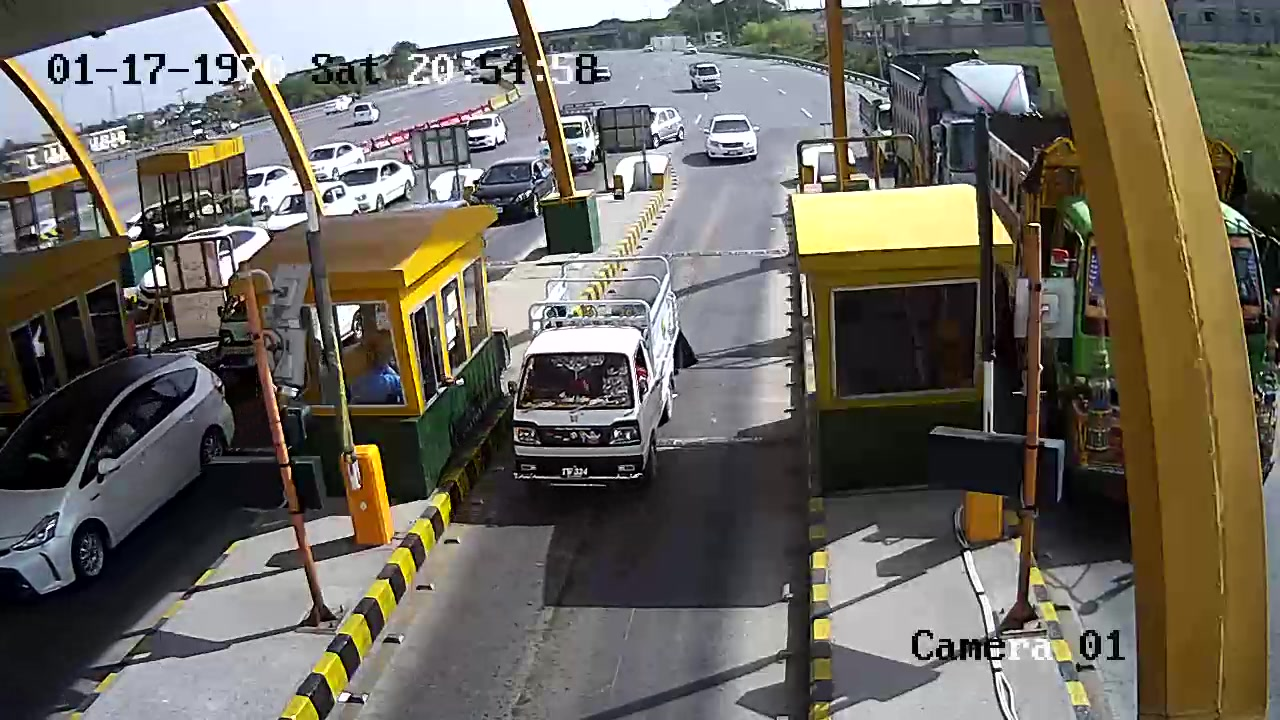F1: (500, 248, 704, 497)
